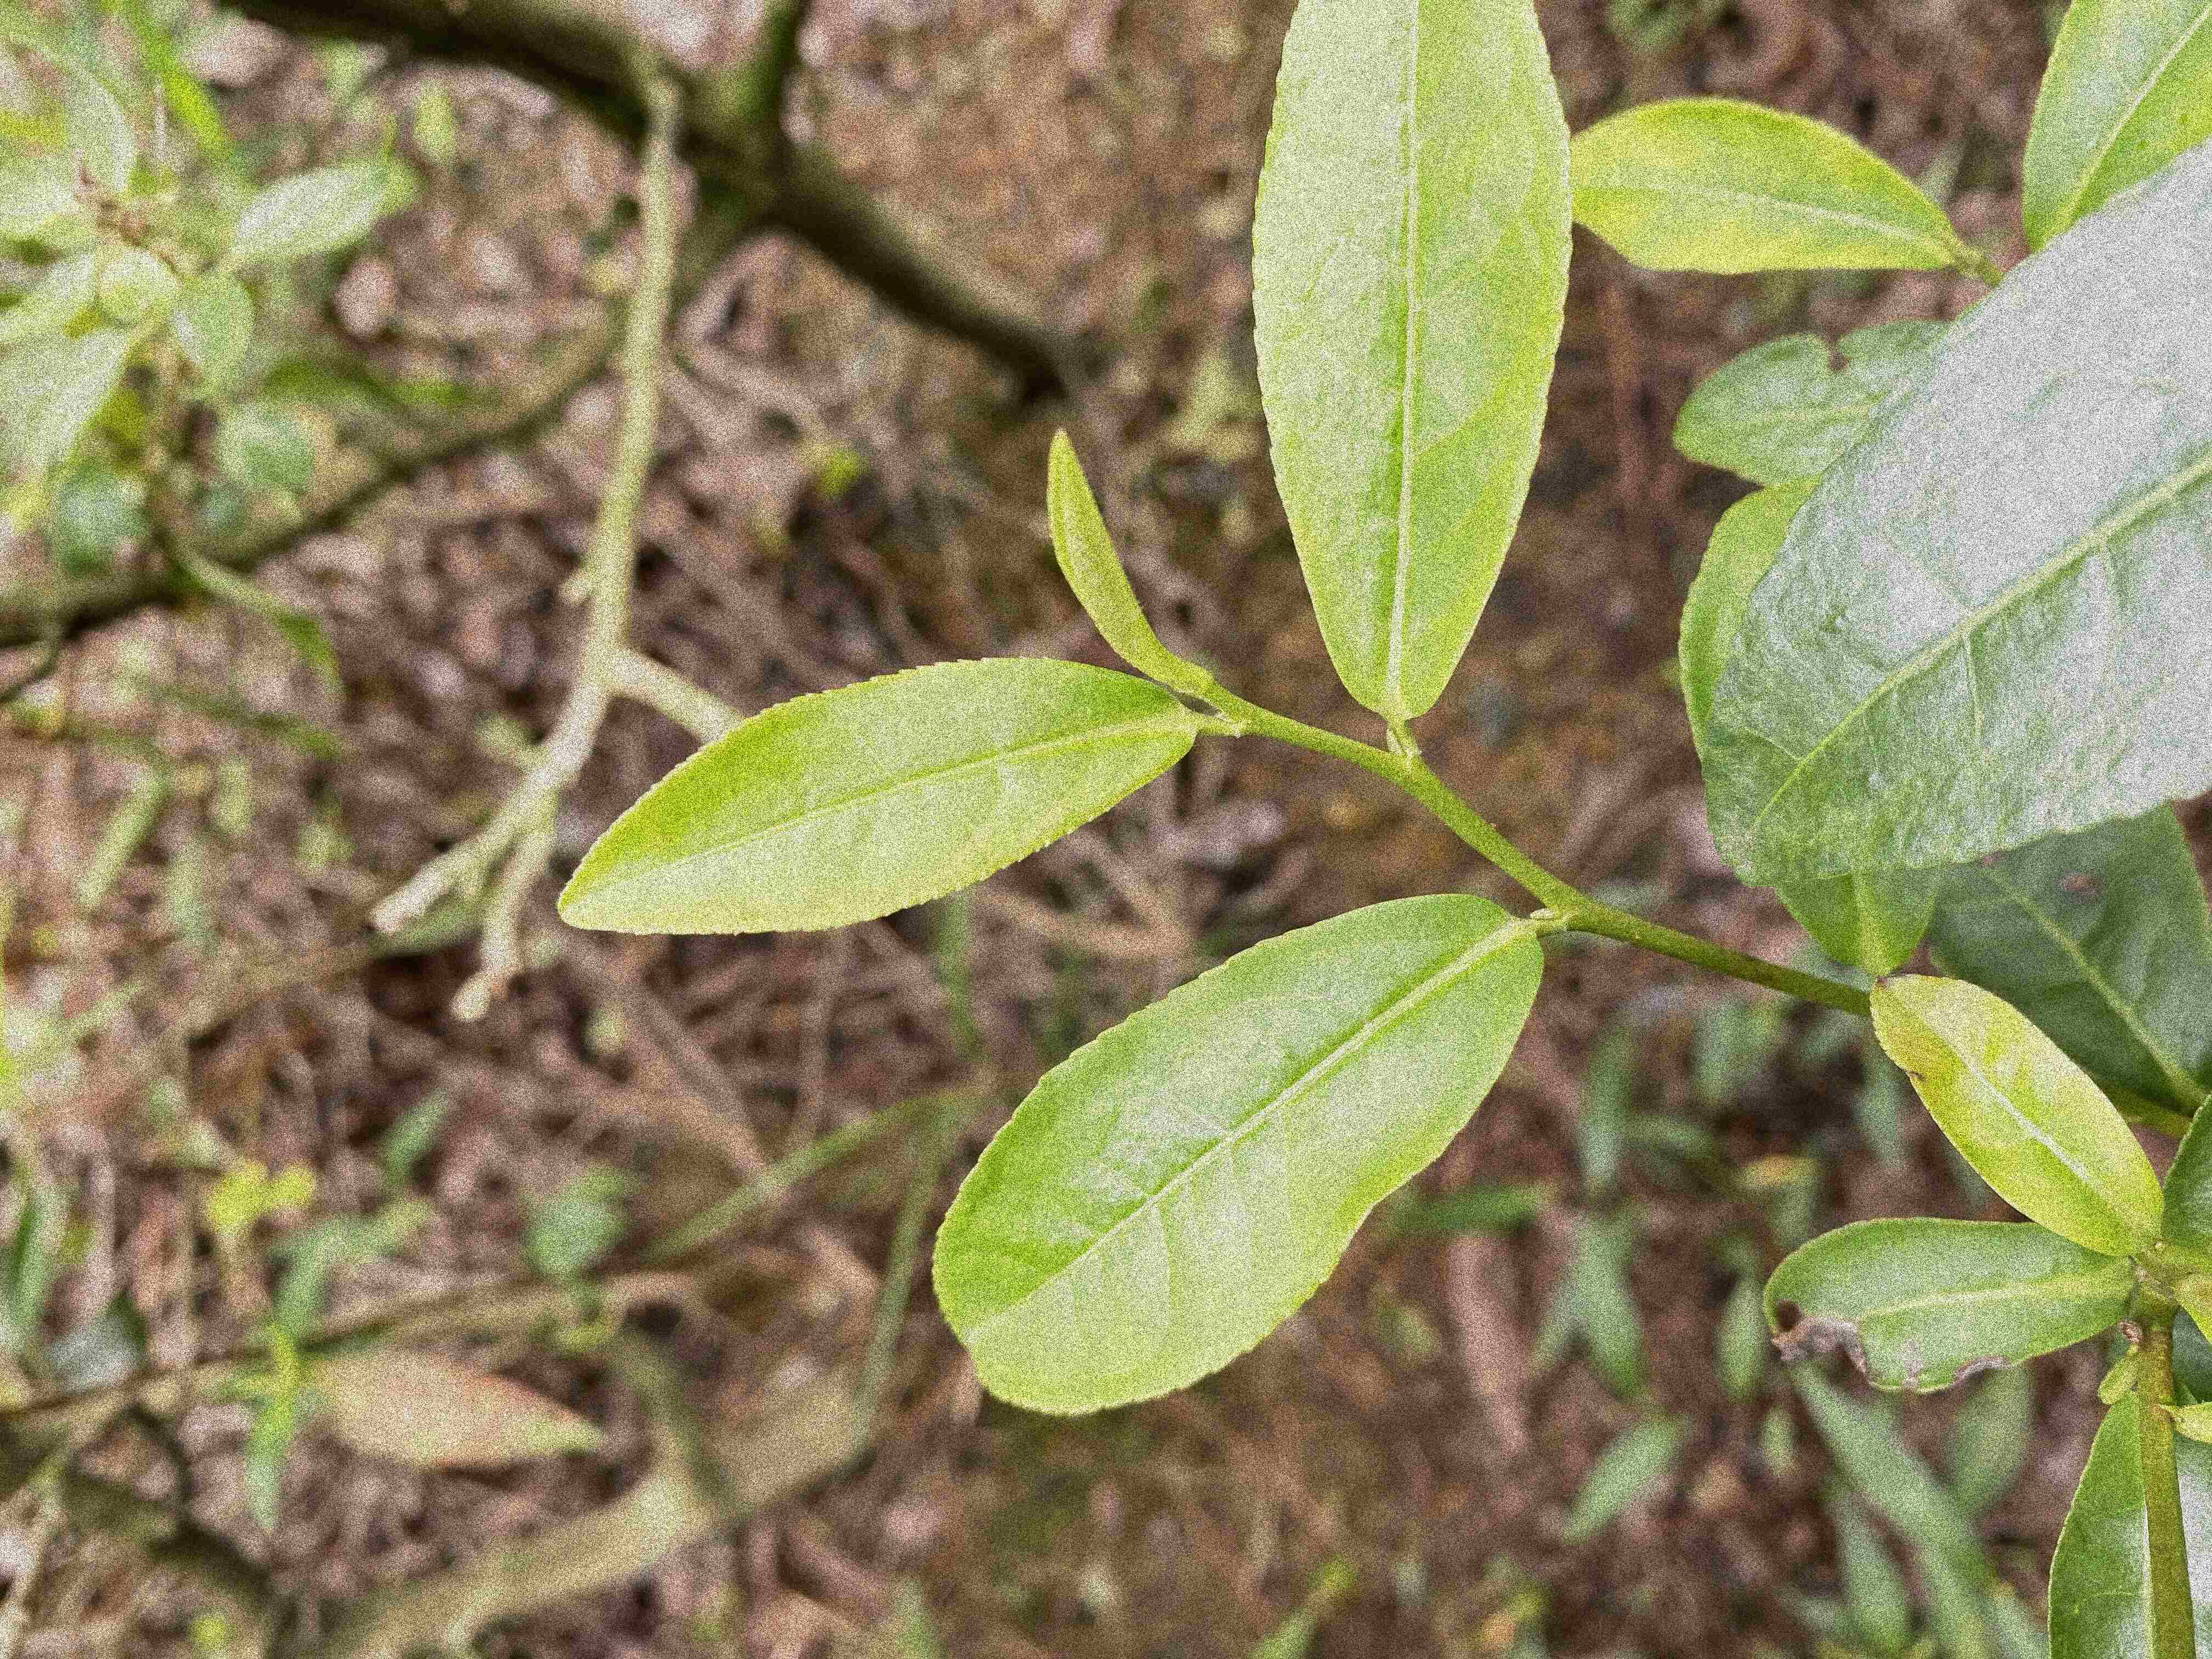chihuo_low: (1669, 315, 1952, 486)
healthy: (1703, 141, 2210, 892), (932, 889, 1547, 1417), (1247, 2, 1580, 716), (554, 657, 1197, 939), (1578, 101, 1959, 275)
tanju_high: (1759, 1215, 2127, 1396)
tanju_low: (1867, 972, 2168, 1258)
